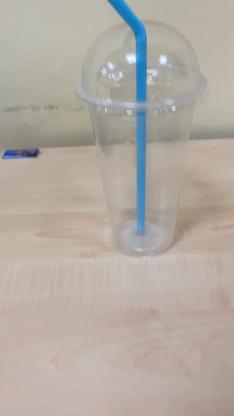Plastic Cup: (74, 20, 208, 256)
